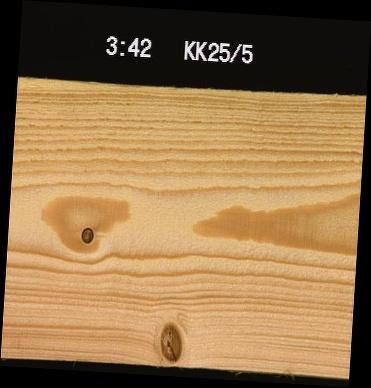dry_knot: (78, 224, 95, 244)
sound_knot: (157, 321, 184, 363)
